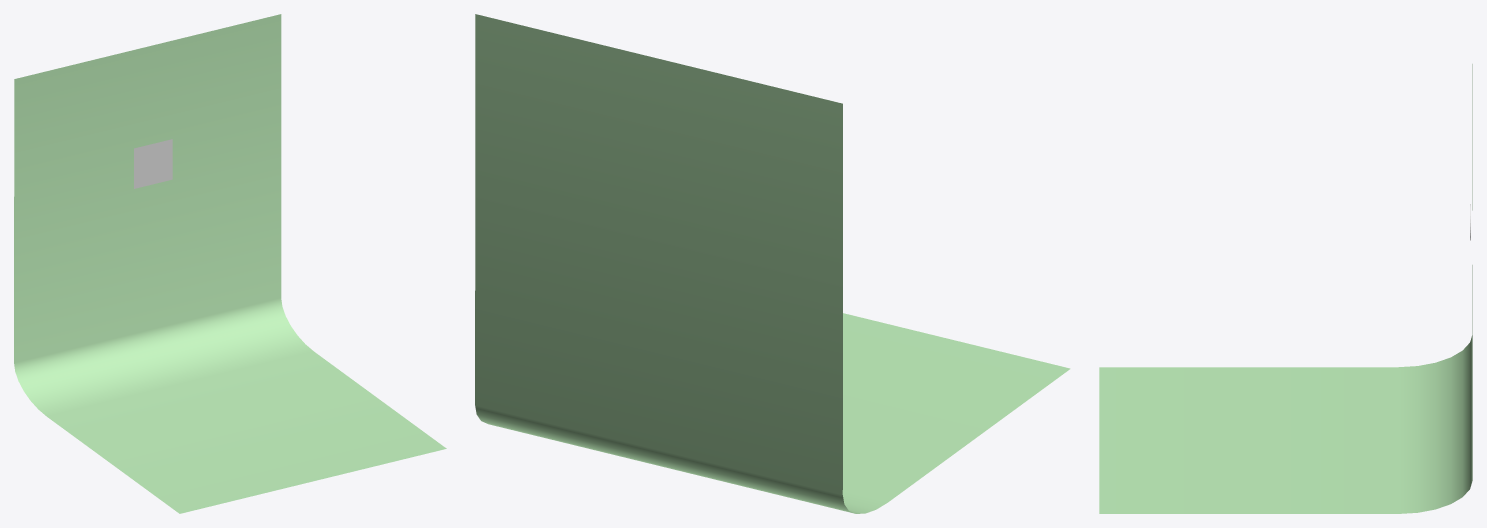
File: MorningRing.fbx
The picture shows the model from 3 angles, left to right: view 1: azimuth 30°, elevation 25°; view 2: azimuth 150°, elevation 25°; view 3: azimuth 270°, elevation 25°; orthographic projection. The views are drawn at different scales.
Parts seen in each view (by area): view 1: 平面, 纸; view 2: 平面; view 3: 平面.
Part boxes in pixels (box(x1,y1,x2,y2)): 平面: box(14, 14, 446, 513); 纸: box(134, 139, 172, 188); 平面: box(475, 14, 1070, 513); 平面: box(1099, 64, 1472, 513).
Size of the model in its own units: 953 by 1069 by 1024.
